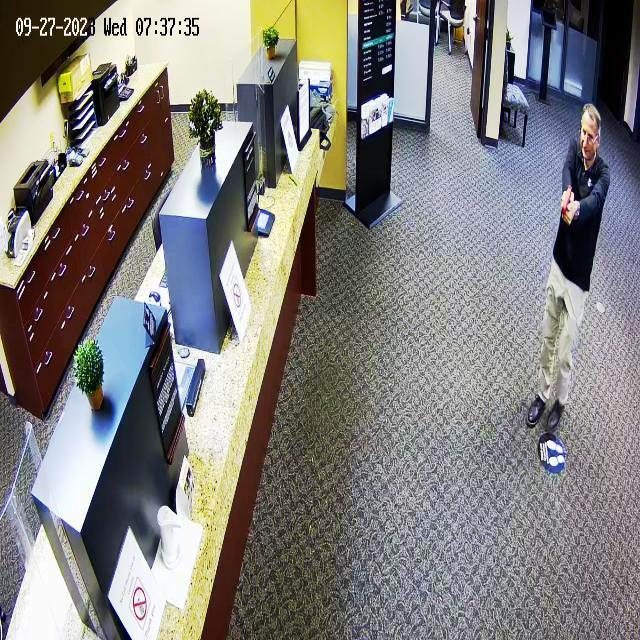Gun: (550, 184, 584, 232)
